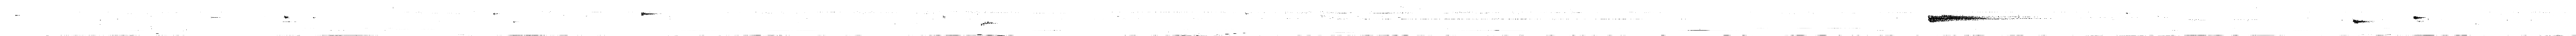.3: (2353, 18, 2369, 23), (2413, 16, 2426, 20)
meteor: (1927, 15, 1988, 23), (641, 11, 657, 16), (284, 16, 289, 18)
